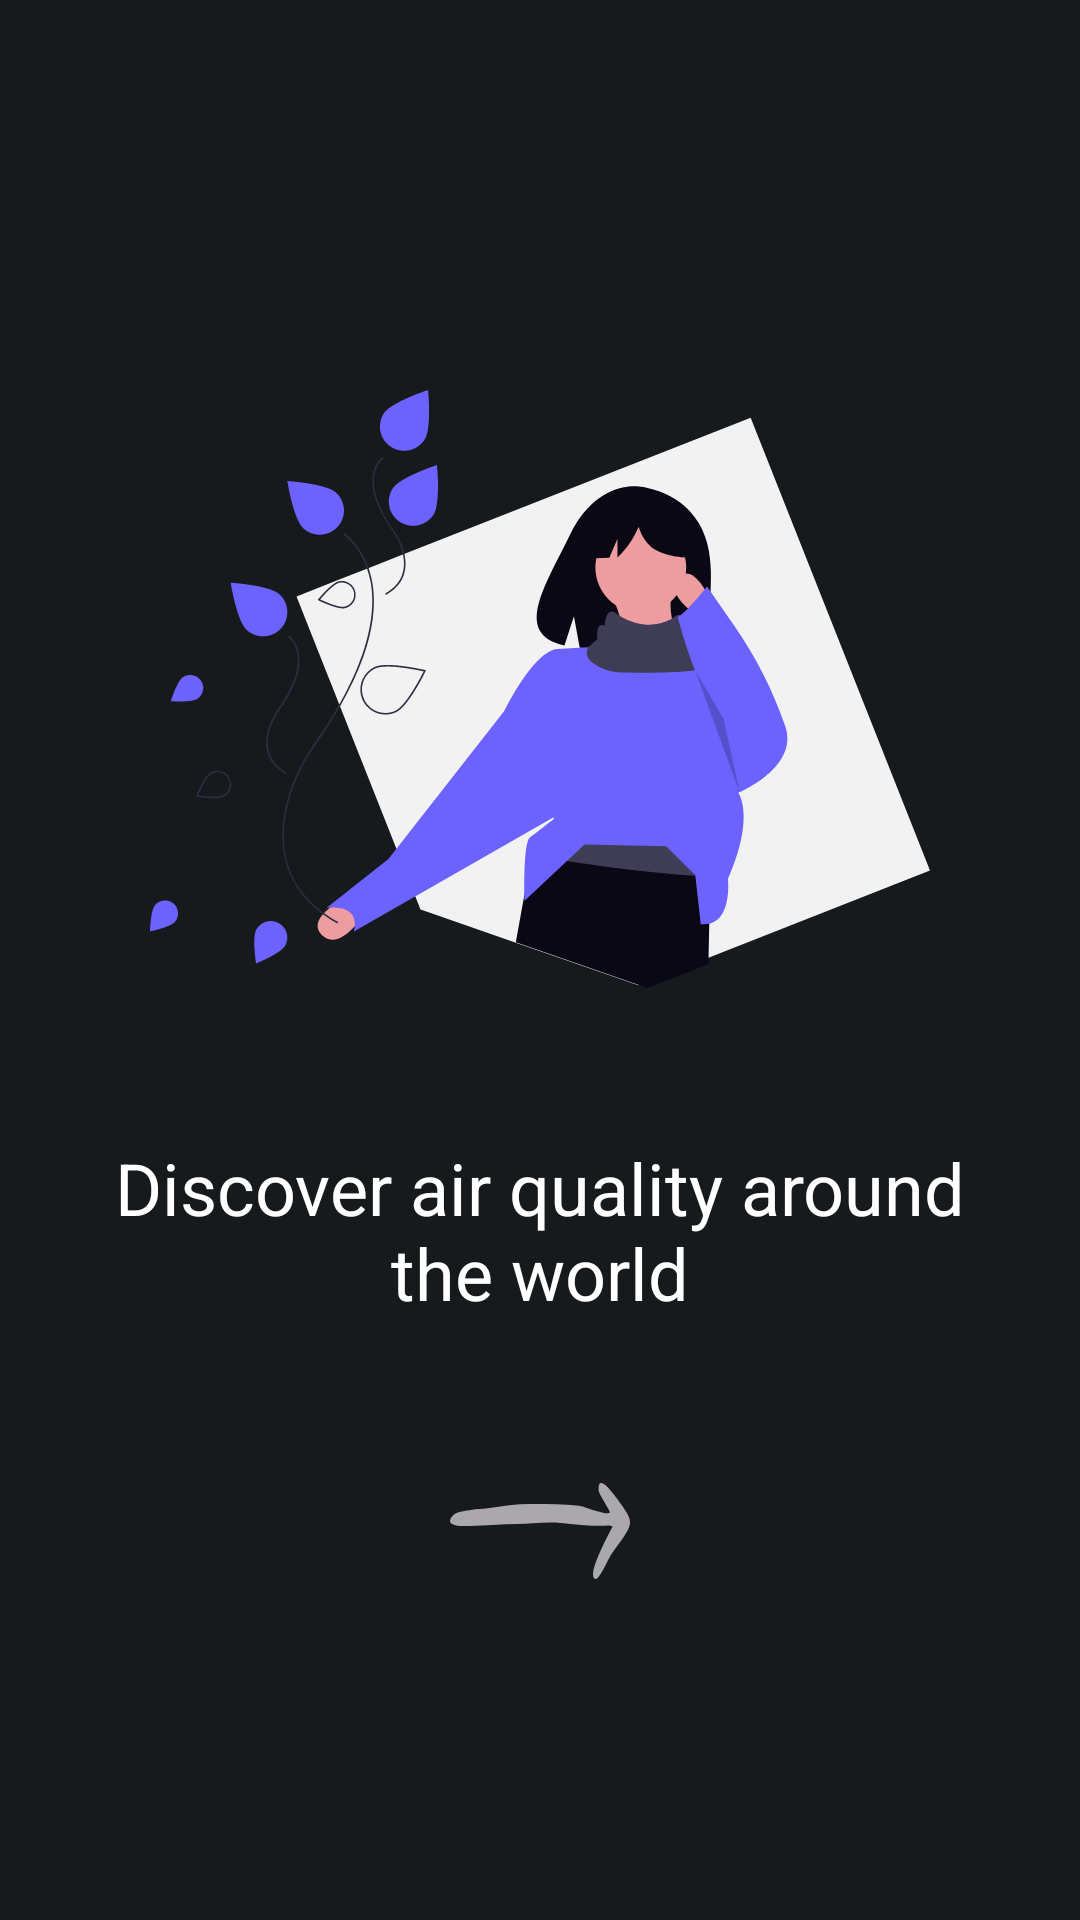

Screen size 1080px x 1920px. Icon name, then its center in pixels as point (x, y):
arrow: point (540, 1531)
